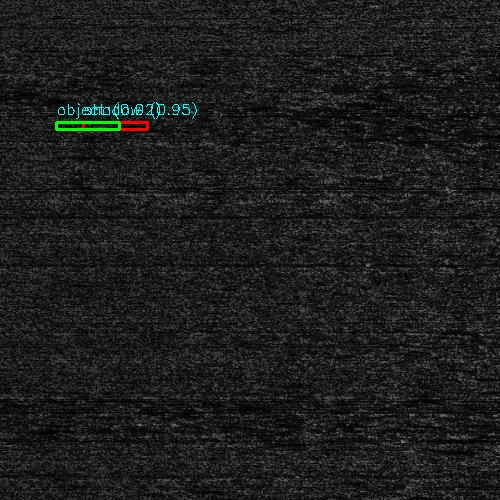rock: (57, 122, 120, 129), (219, 496, 282, 500)
shadow: (89, 122, 148, 129), (251, 496, 313, 500), (0, 89, 23, 98)
